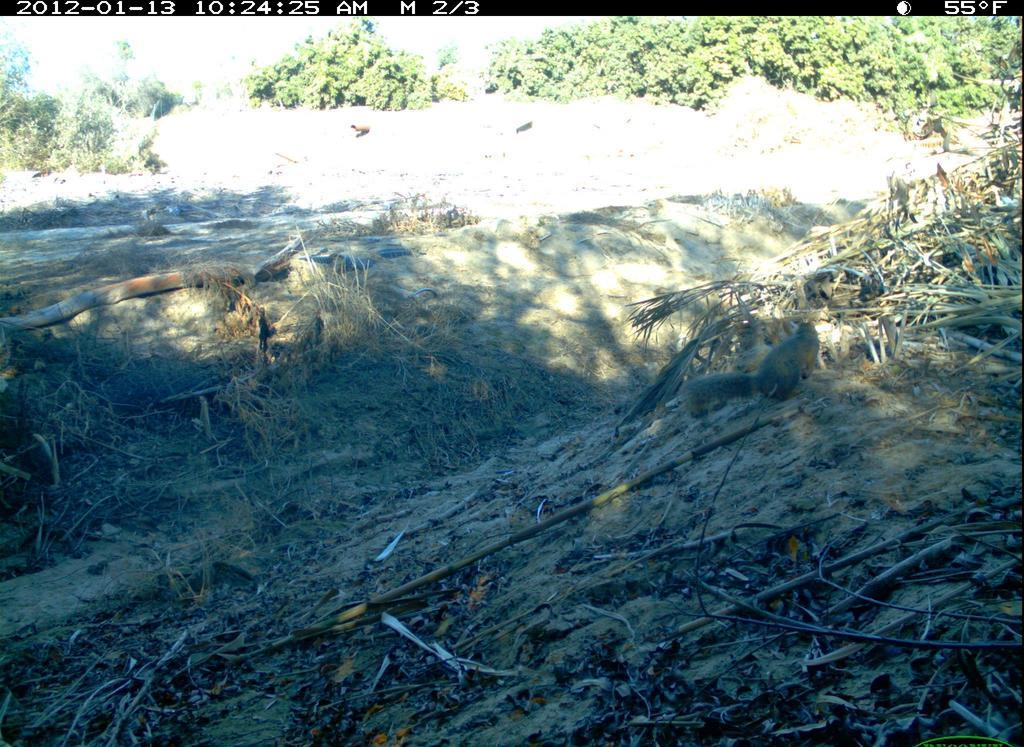squirrel: (679, 313, 822, 427)
